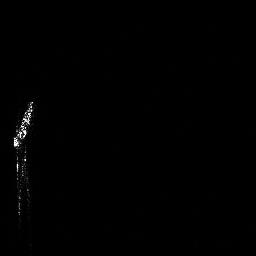ship: (13, 99, 33, 219)
